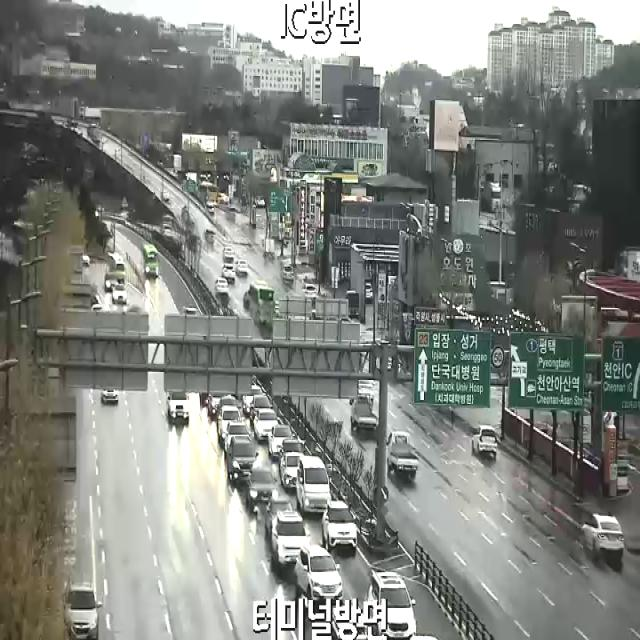Bus: (248, 281, 274, 322), (143, 244, 160, 277), (109, 254, 126, 284), (198, 182, 216, 202)
Car: (368, 570, 416, 639), (295, 545, 342, 605), (66, 581, 102, 640), (272, 509, 310, 564), (296, 456, 332, 514), (582, 513, 624, 558), (322, 502, 358, 553), (247, 469, 278, 514), (228, 436, 258, 482), (332, 607, 367, 640), (265, 498, 294, 536), (268, 424, 295, 459), (225, 421, 251, 455), (471, 425, 497, 458), (254, 409, 280, 441), (279, 439, 302, 474), (282, 452, 304, 488), (218, 405, 240, 438), (250, 395, 272, 425), (349, 380, 375, 405), (167, 392, 189, 419), (243, 386, 263, 412), (208, 394, 228, 416), (112, 284, 127, 305), (102, 388, 118, 404), (105, 274, 119, 292), (216, 394, 238, 405), (216, 277, 228, 296), (222, 264, 234, 282), (235, 260, 249, 275), (282, 266, 294, 283), (304, 284, 317, 299), (222, 247, 235, 260), (366, 282, 374, 303), (205, 229, 215, 244), (218, 193, 229, 205), (255, 195, 265, 208), (206, 202, 215, 215), (82, 254, 90, 266), (160, 190, 169, 199)
Truck: (386, 431, 418, 478), (350, 397, 379, 432), (345, 288, 359, 318), (262, 237, 274, 258)
